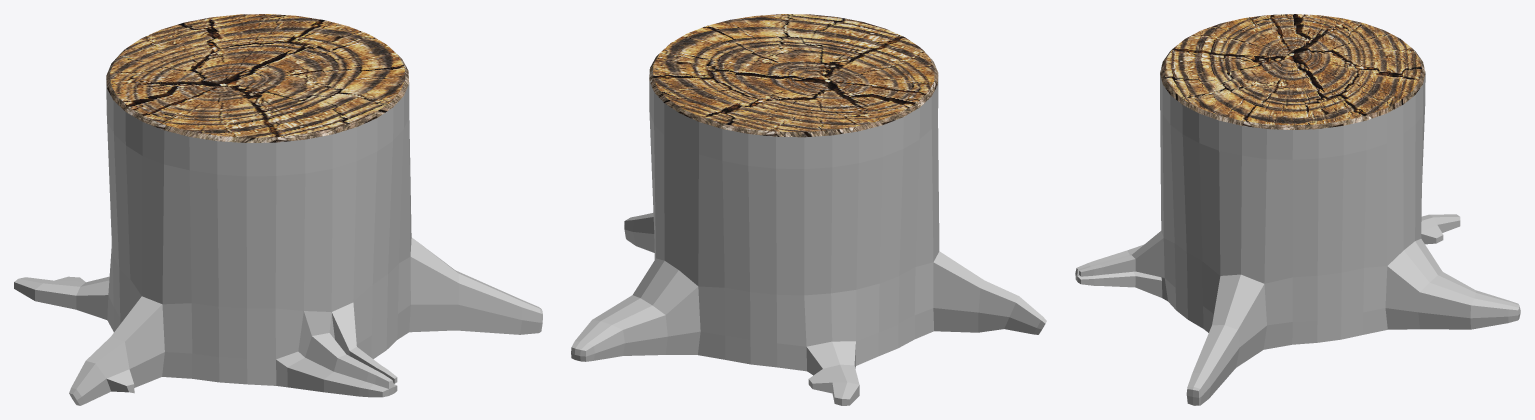
File: pen_001 1.fbx
3 renders of one model, left to right at view 1: azimuth 30°, elevation 25°; view 2: azimuth 150°, elevation 25°; view 3: azimuth 270°, elevation 25°, orthographic. The views are drawn at different scales.
Parts seen in each view (by area): view 1: Circle; view 2: Circle; view 3: Circle.
Boxes of the visible parts, x1=… form: Circle: x1=14, y1=14, x2=542, y2=405; Circle: x1=571, y1=14, x2=1046, y2=405; Circle: x1=1075, y1=14, x2=1520, y2=405.
Bounding box in the file's own units: 296 × 167 × 282.
